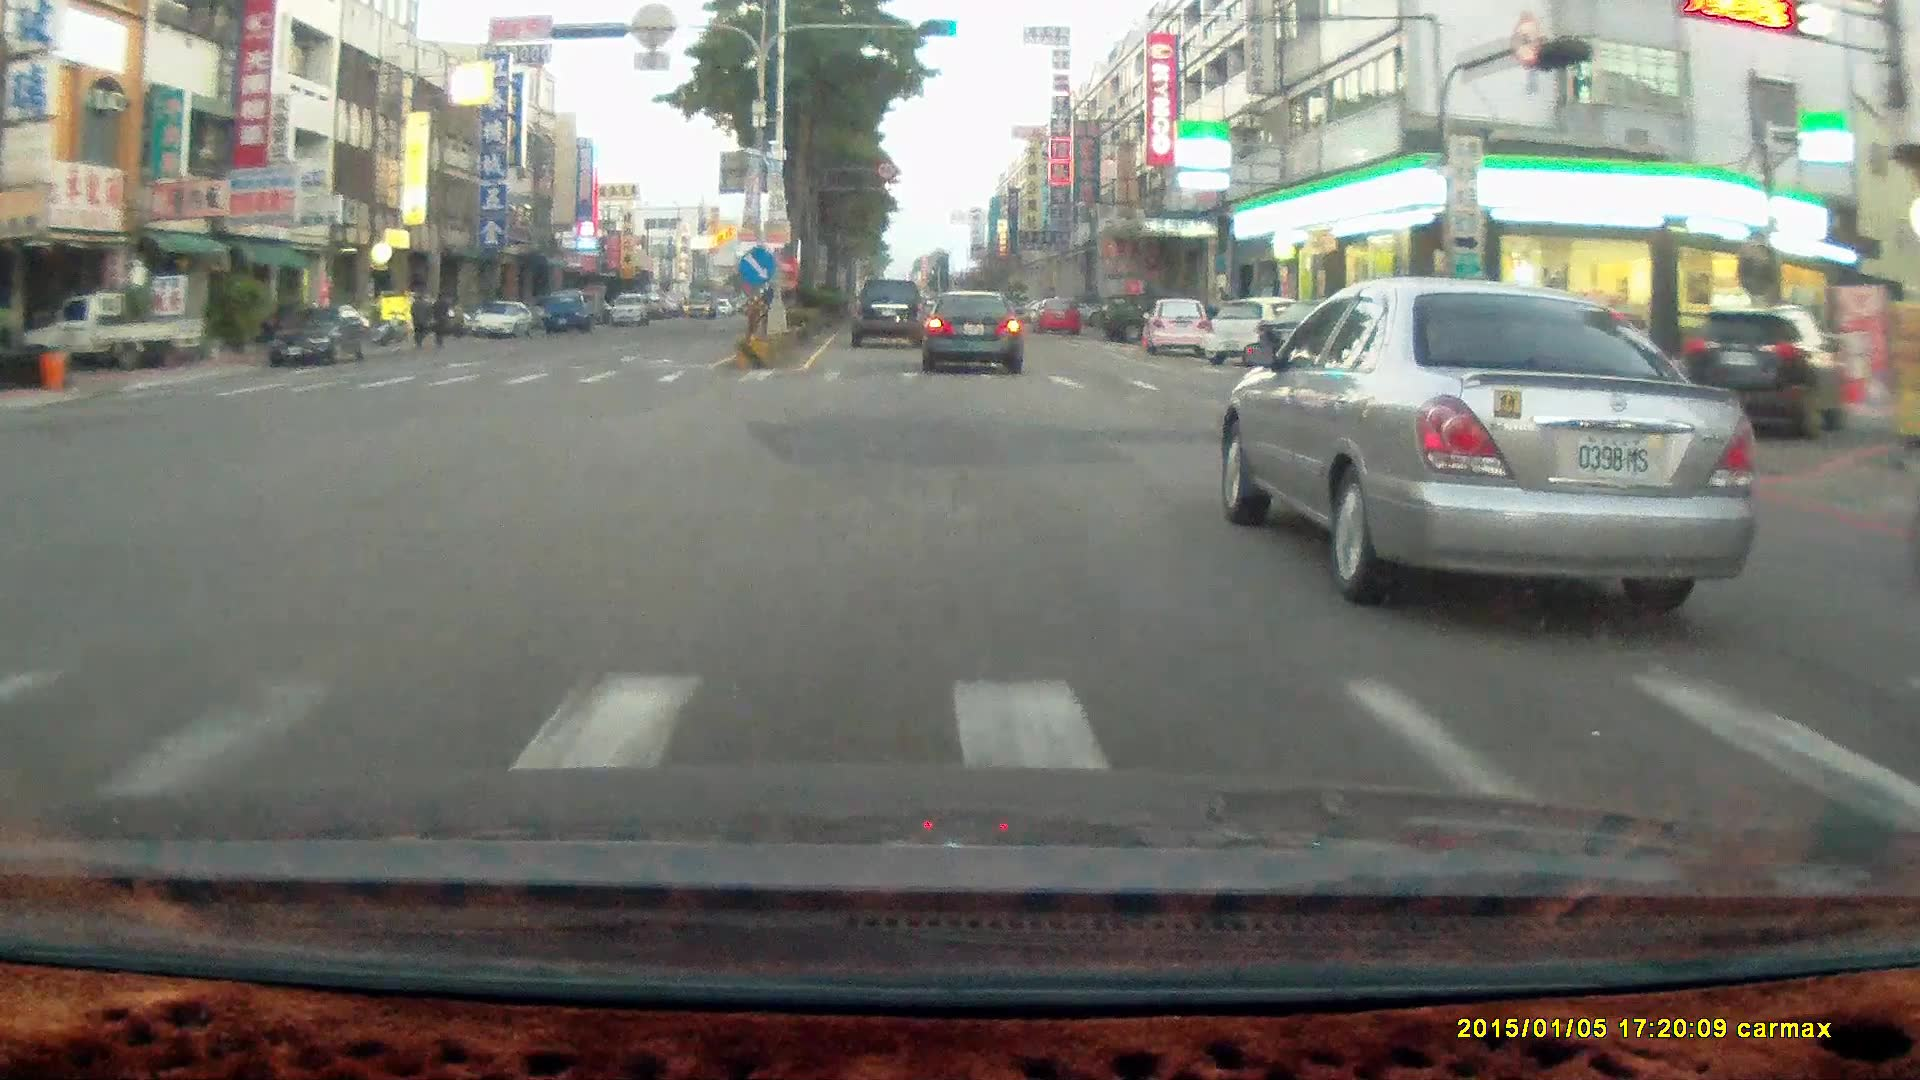pedestrian: (428, 284, 454, 350), (407, 289, 430, 352), (408, 290, 428, 354), (428, 290, 450, 351)
vehicle: (1227, 285, 1762, 603), (1687, 307, 1846, 440), (22, 293, 204, 374), (37, 297, 196, 382), (1263, 299, 1400, 384), (924, 294, 1027, 378), (923, 289, 1021, 372), (1202, 296, 1315, 365), (264, 307, 376, 373), (267, 307, 370, 367), (851, 279, 930, 352), (849, 279, 926, 349), (1142, 299, 1214, 361), (1141, 298, 1211, 359), (1102, 294, 1178, 345), (470, 302, 535, 343), (541, 294, 595, 338), (470, 304, 532, 341), (542, 288, 588, 334), (1033, 293, 1079, 331), (609, 292, 651, 326)
